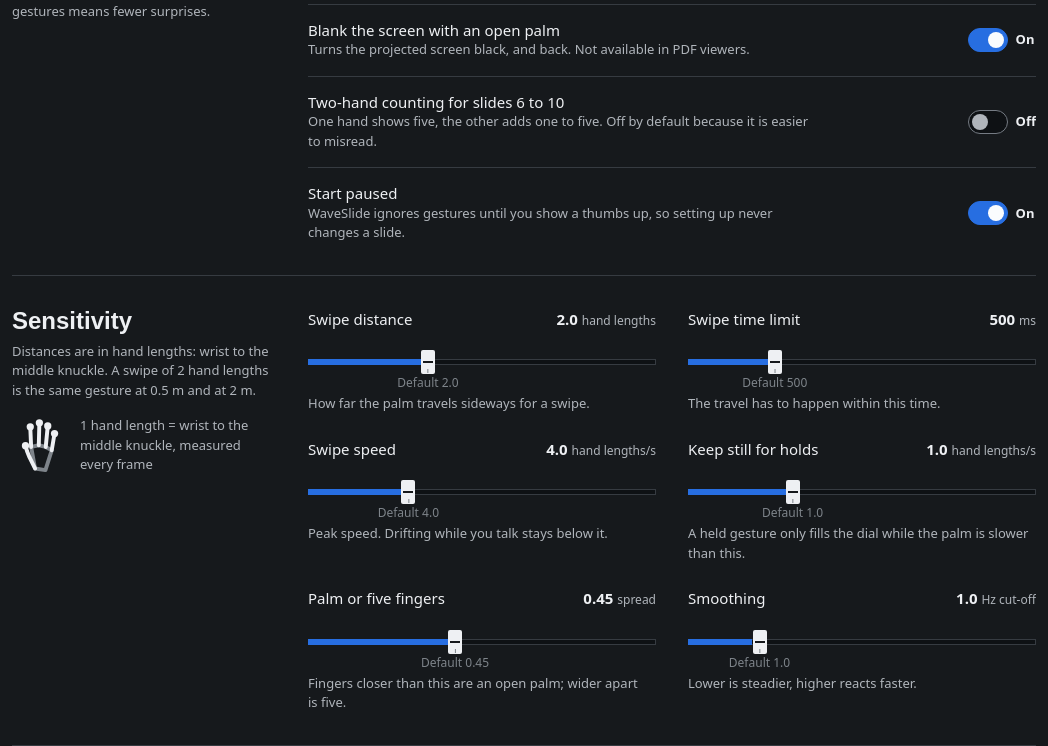
it: SettingsForm › saves the draft and says so
The width and height of the screenshot is (1048, 746).
(page scrolled)
Press ArrowRight in the slider named "Swipe distance" below "Swipe distance", box [416,350,440,374]
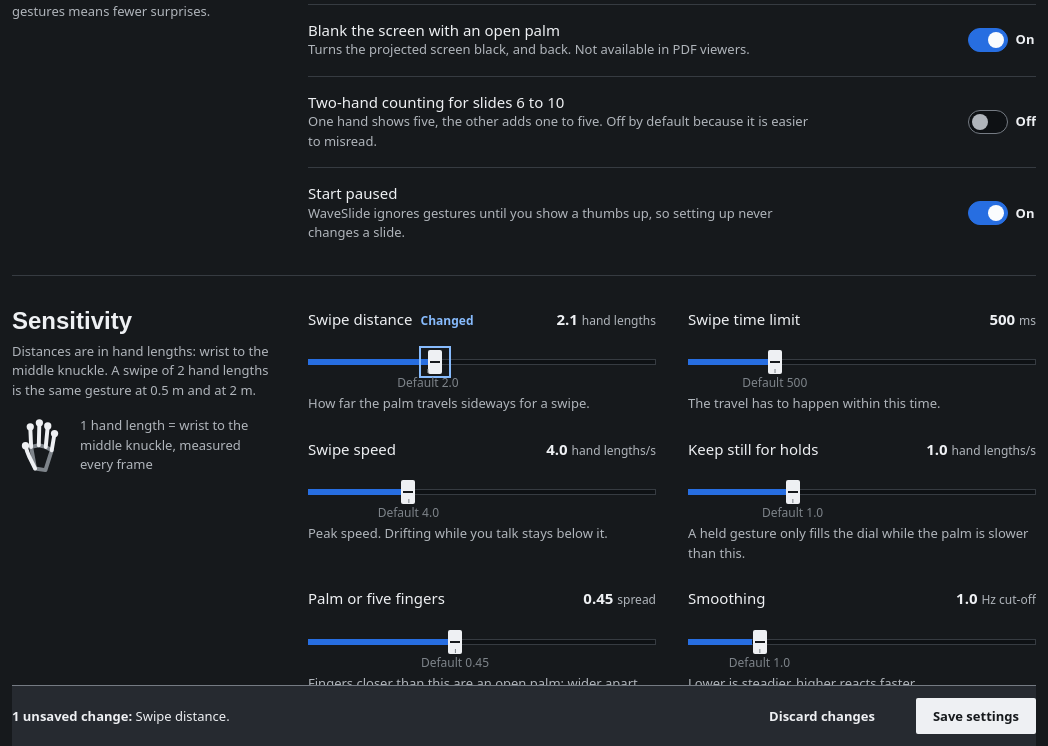
Click the button "Save settings" at point(976, 716), box [916,698,1036,734]
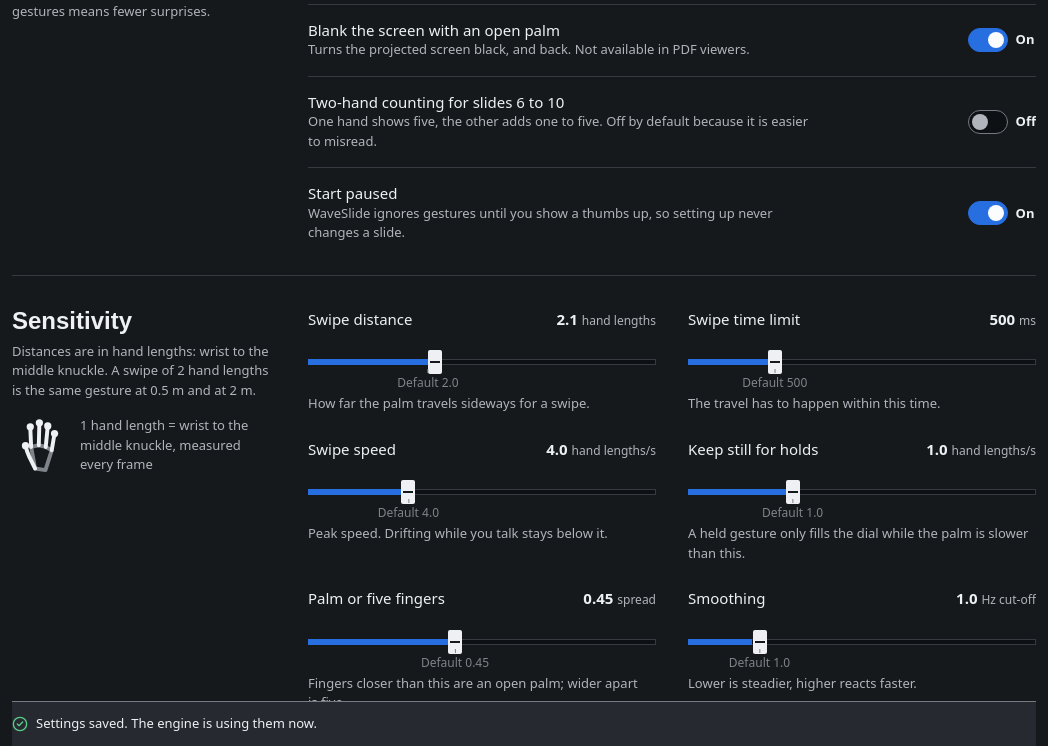
Expected: the text "Settings saved. The engine is using them now." is shown, [12,714,317,734]
